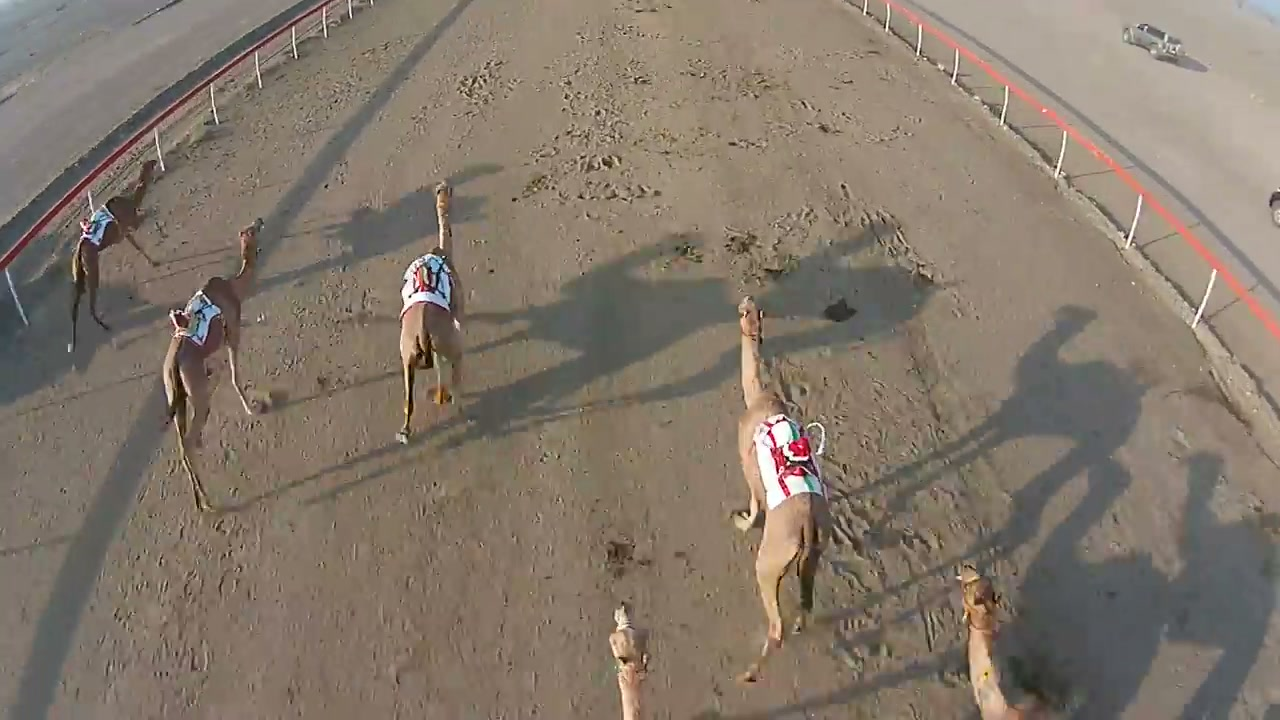animal_footprint: (108, 486, 278, 715), (360, 417, 475, 713)
